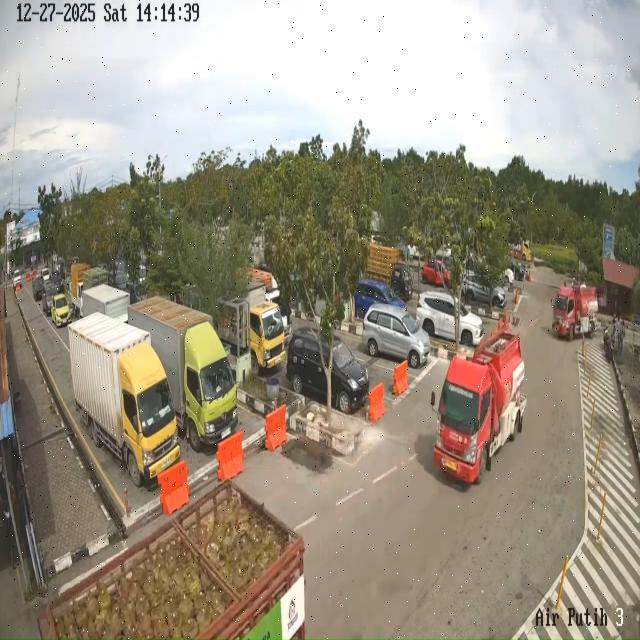Golongan IVA: (286, 327, 370, 413), (362, 304, 430, 369), (416, 291, 484, 347), (354, 279, 406, 320), (462, 271, 506, 309), (422, 260, 450, 286), (51, 294, 72, 328), (42, 280, 60, 316), (32, 274, 45, 301)
Golongan IVB: (364, 242, 414, 300), (68, 262, 90, 318)
Golongan VB: (37, 481, 306, 640), (68, 313, 180, 486), (128, 297, 238, 451), (431, 329, 526, 484), (552, 284, 599, 341)
